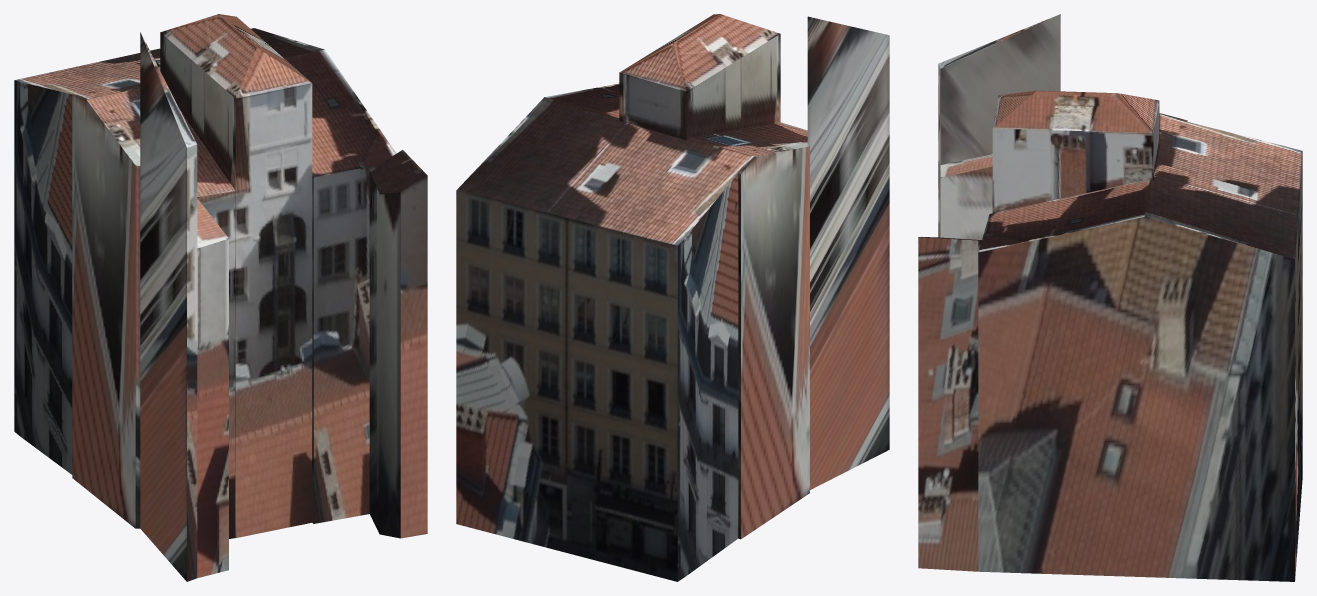
3 renders of one model, left to right at view 1: azimuth 30°, elevation 25°; view 2: azimuth 150°, elevation 25°; view 3: azimuth 270°, elevation 25°, orthographic. The views are drawn at different scales.
Parts seen in each view (by area): view 1: Z_UP; view 2: Z_UP; view 3: Z_UP.
Part boxes in pixels (bbox=[...]): Z_UP: bbox=[14, 14, 427, 581]; Z_UP: bbox=[456, 14, 889, 581]; Z_UP: bbox=[918, 14, 1302, 581].
Size of the model in its own units: 14.58 by 26.61 by 20.19.
2 materials, 1 textured.
